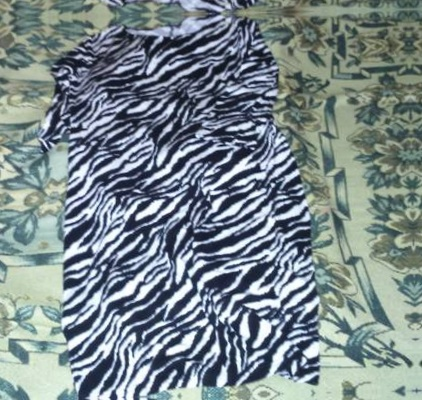Dress: (38, 23, 330, 391), (30, 0, 321, 5)
